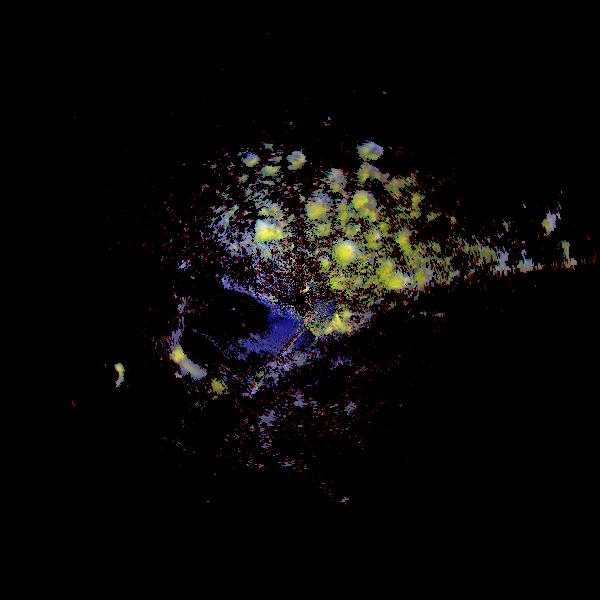roost: (82, 353, 127, 398), (156, 347, 189, 380), (289, 150, 304, 165), (364, 144, 379, 159)
